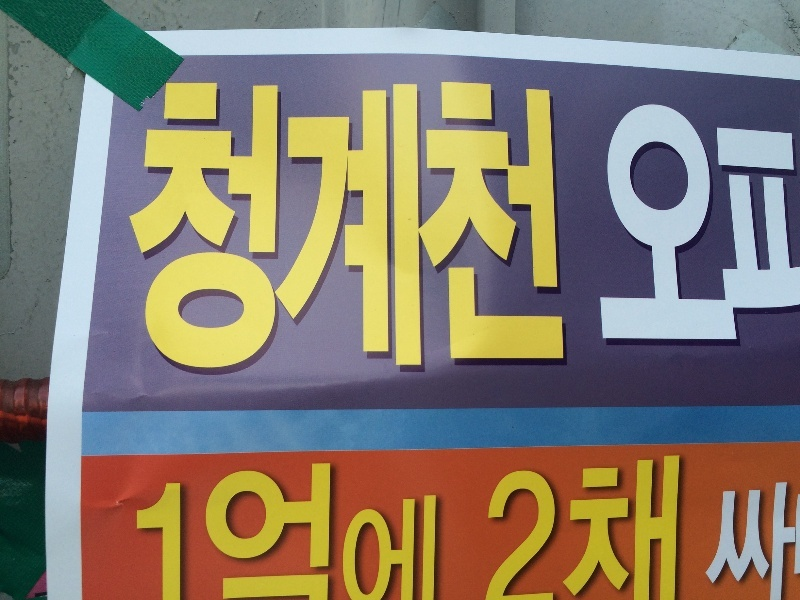text: (129, 71, 144, 387), (145, 71, 160, 387), (161, 71, 176, 387), (177, 71, 192, 387), (193, 71, 208, 387), (209, 71, 224, 387), (225, 71, 240, 387), (241, 71, 256, 387), (257, 71, 272, 387), (273, 71, 288, 387), (289, 71, 304, 387), (305, 71, 320, 387), (321, 71, 336, 387), (337, 71, 352, 387), (353, 71, 368, 387), (369, 71, 384, 387), (385, 71, 400, 387), (401, 71, 416, 387), (417, 71, 432, 387), (433, 71, 448, 387), (449, 71, 464, 387), (465, 71, 480, 387), (481, 71, 496, 387), (497, 71, 512, 387), (513, 71, 528, 387), (529, 71, 544, 387), (545, 71, 560, 387), (561, 71, 576, 387), (593, 96, 608, 359), (609, 96, 624, 359), (625, 96, 640, 359), (641, 96, 656, 359), (657, 96, 672, 359), (673, 96, 688, 359), (689, 96, 704, 359), (705, 96, 720, 359), (721, 96, 736, 359), (737, 96, 752, 359), (753, 96, 768, 359), (769, 96, 784, 359), (785, 96, 800, 359), (119, 71, 128, 387), (113, 451, 128, 600), (129, 451, 144, 600), (145, 451, 160, 600), (161, 451, 176, 600), (177, 451, 192, 600), (193, 451, 208, 600), (209, 451, 224, 600), (225, 451, 240, 600), (241, 451, 256, 600), (257, 451, 272, 600), (273, 451, 288, 600), (289, 451, 304, 600), (305, 451, 320, 600), (321, 451, 336, 600), (337, 451, 352, 600), (353, 451, 368, 600), (369, 451, 384, 600), (385, 451, 400, 600), (401, 451, 416, 600), (417, 451, 432, 600), (433, 451, 448, 600), (481, 450, 496, 598), (497, 450, 512, 598), (513, 450, 528, 598), (529, 450, 544, 598), (545, 450, 560, 598), (561, 450, 576, 598), (577, 450, 592, 598), (593, 450, 608, 598), (609, 450, 624, 598), (625, 450, 640, 598), (641, 450, 656, 598), (657, 450, 672, 598), (673, 450, 688, 598), (467, 450, 480, 598), (721, 476, 736, 600), (737, 476, 752, 600), (753, 476, 768, 600), (769, 476, 784, 600), (585, 96, 592, 359), (707, 476, 720, 600), (785, 476, 798, 600), (449, 451, 455, 600), (689, 450, 694, 598), (110, 451, 112, 600)
